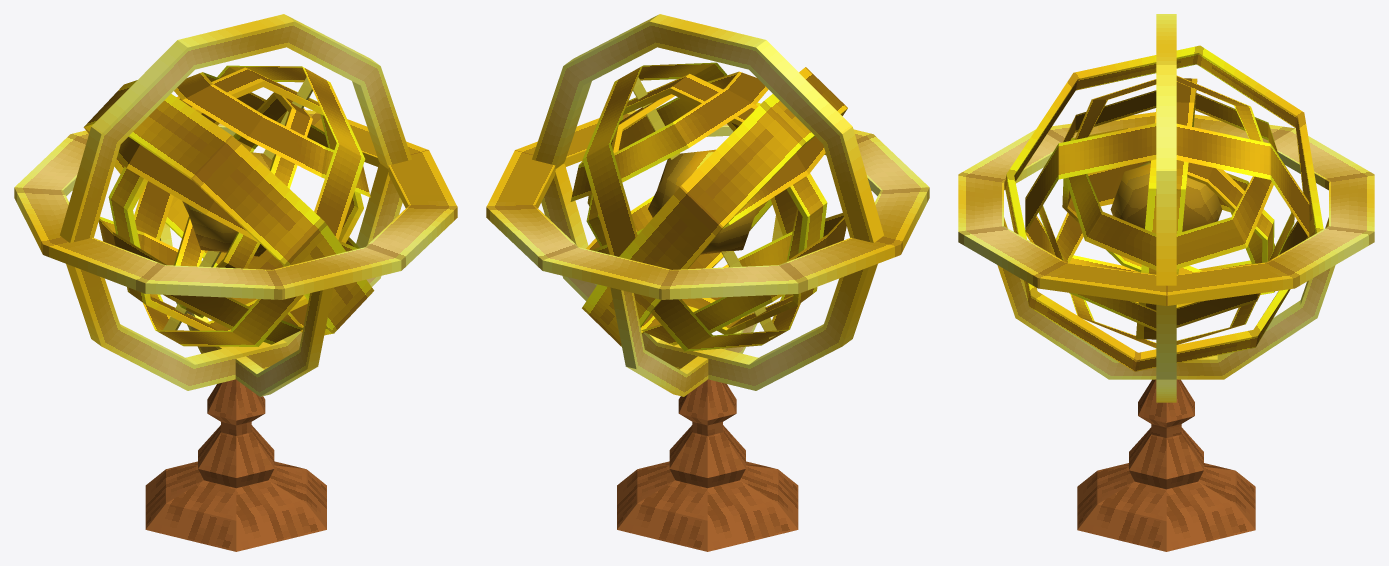
The model's file is Celestialglobe.fbx.
The picture shows the model from 3 angles, left to right: view 1: azimuth 30°, elevation 25°; view 2: azimuth 150°, elevation 25°; view 3: azimuth 270°, elevation 25°; orthographic projection.
Visible parts, largest first — view 1: Celestialglobe; view 2: Celestialglobe; view 3: Celestialglobe.
Part boxes in pixels (x1,y1,x2,y2): Celestialglobe: [14, 14, 457, 551]; Celestialglobe: [486, 14, 929, 551]; Celestialglobe: [958, 14, 1374, 551].
Bounding box in the file's own units: 0.9662 × 1.14 × 0.9189.
